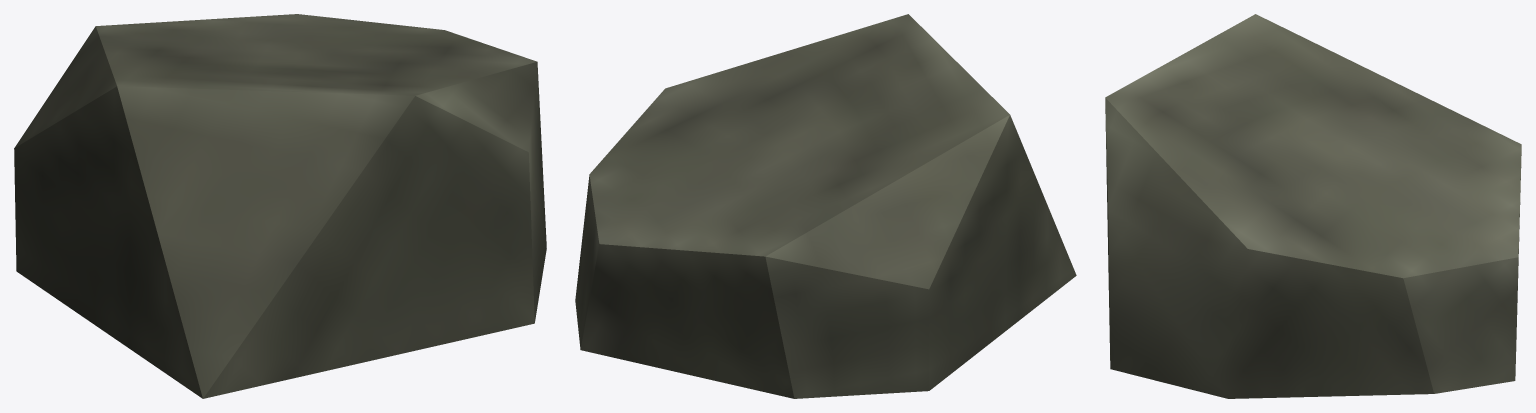
The model's file is Rock_14A.fbx.
The picture shows the model from 3 angles, left to right: view 1: azimuth 30°, elevation 25°; view 2: azimuth 150°, elevation 25°; view 3: azimuth 270°, elevation 25°; orthographic projection. The views are drawn at different scales.
Visible parts, largest first — view 1: Rock_14A; view 2: Rock_14A; view 3: Rock_14A.
Part boxes in pixels (bbox=[...]): Rock_14A: bbox=[14, 14, 546, 398]; Rock_14A: bbox=[575, 14, 1076, 398]; Rock_14A: bbox=[1105, 14, 1521, 398].
Bounding box in the file's own units: 67.31 × 40.05 × 68.21.
Materials: 1 (1 with a texture image).
